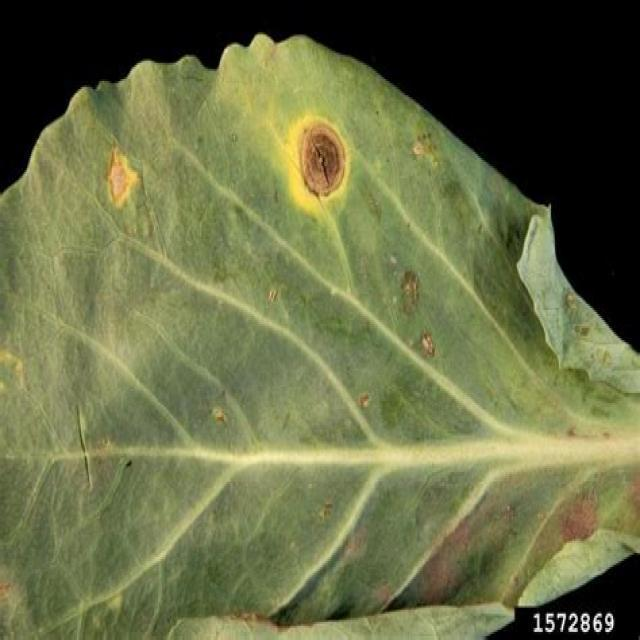Bacterial: (266, 97, 377, 236)
